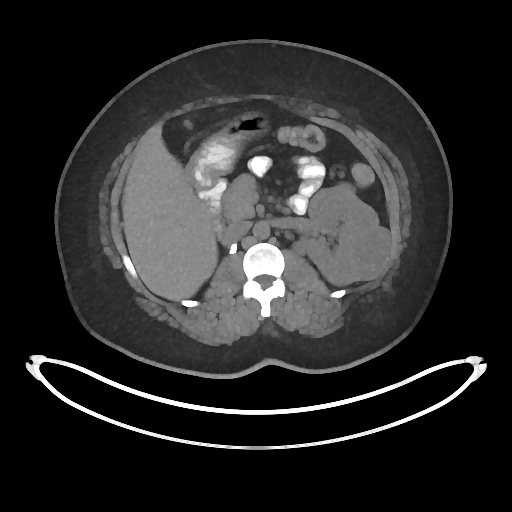Lesion: (341, 218, 394, 283)
